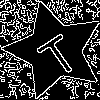T: (30, 25, 83, 80)
